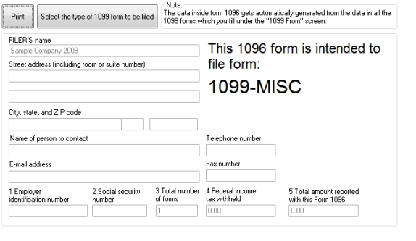textbox: (7, 43, 201, 58), (7, 89, 201, 104), (7, 69, 200, 83), (7, 143, 200, 157), (7, 170, 200, 184), (7, 117, 122, 131), (7, 203, 88, 219), (204, 168, 276, 183), (204, 203, 275, 218), (204, 143, 276, 157), (287, 203, 359, 217), (91, 204, 148, 218), (148, 117, 198, 131), (154, 203, 199, 217), (120, 117, 144, 131)
